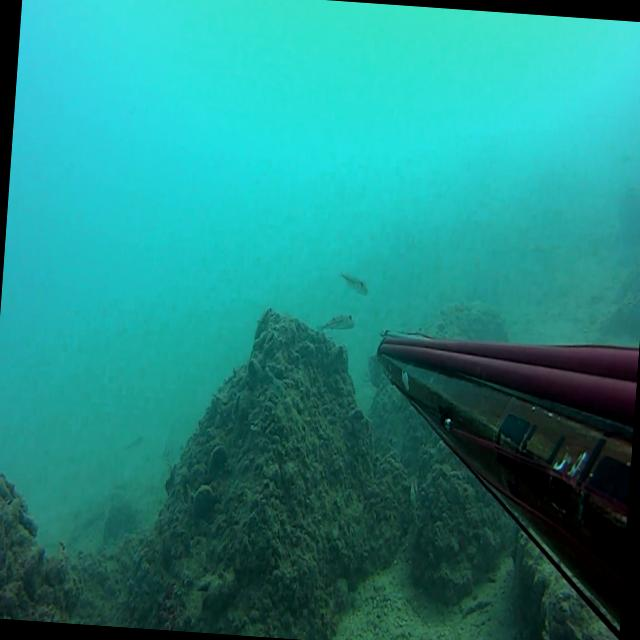Balon Baligi: (316, 310, 354, 337), (338, 272, 368, 296)
